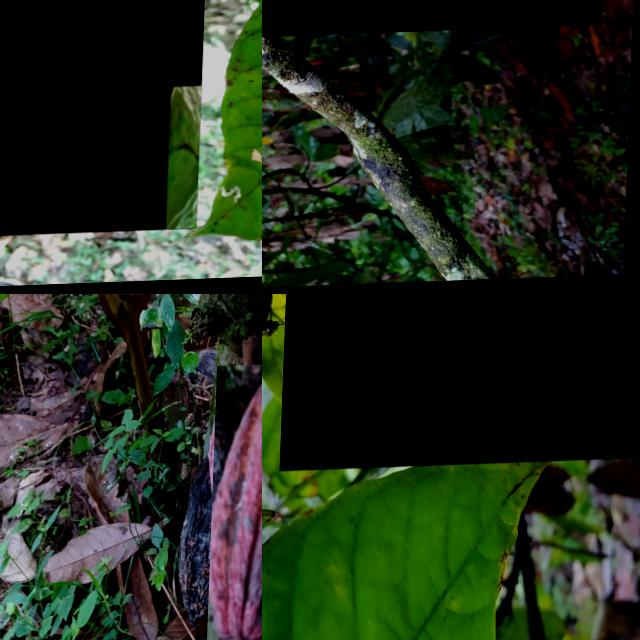Fitoftora: (0, 0, 215, 238), (210, 365, 262, 640), (179, 456, 236, 626)
Monilia: (283, 294, 640, 471)
